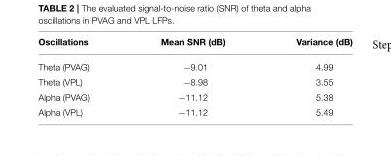table: (37, 37, 351, 116)
table column: (124, 37, 260, 116), (260, 37, 351, 116), (37, 37, 124, 116)
table column header: (37, 37, 351, 54)
table row: (37, 54, 351, 74), (37, 37, 351, 54), (37, 74, 351, 89), (37, 89, 351, 104), (37, 104, 351, 116)
